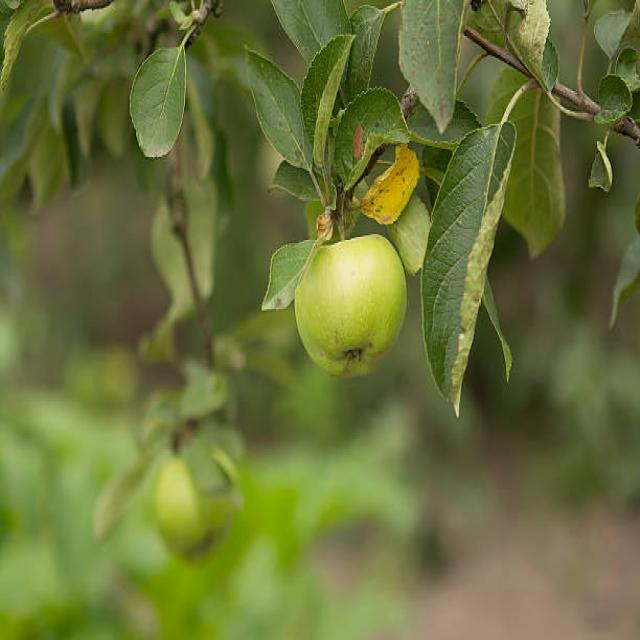Unripe: (295, 233, 407, 380)
